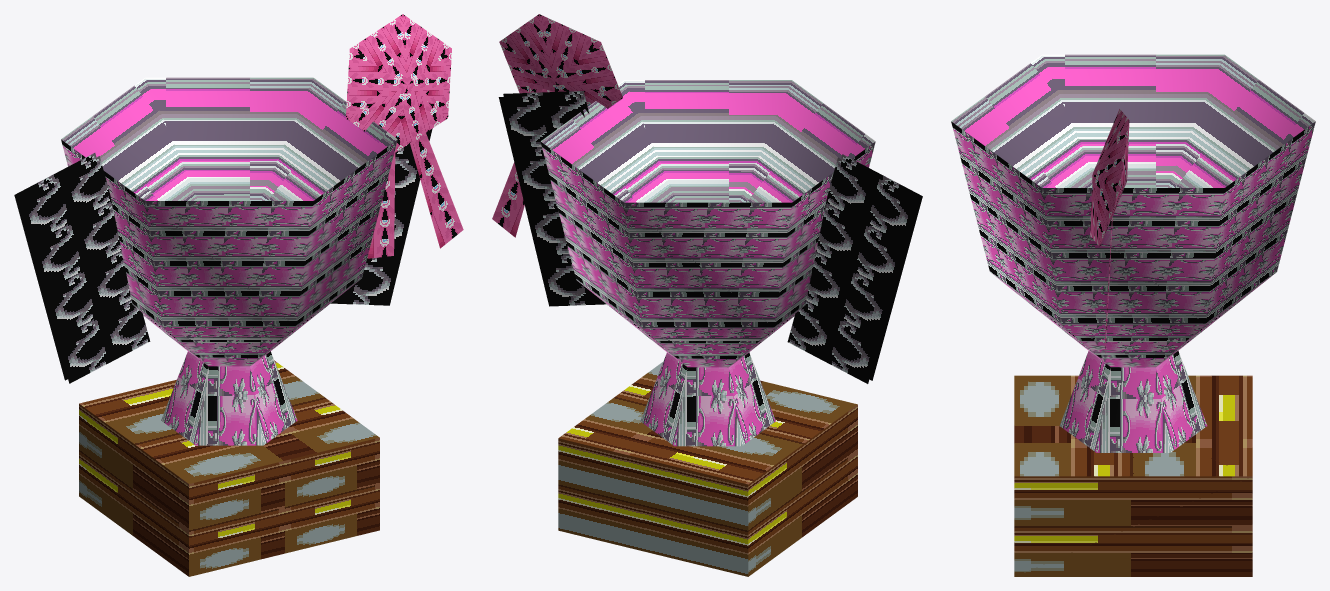
3 views of the same model, side by side, from view 1: azimuth 30°, elevation 25°; view 2: azimuth 150°, elevation 25°; view 3: azimuth 270°, elevation 25° (orthographic). The views are drawn at different scales.
Visible parts, largest first — view 1: 5370kg3_tr00; view 2: 5370kg3_tr00; view 3: 5370kg3_tr00.
Part boxes in pixels (bbox=[...]): 5370kg3_tr00: bbox=[14, 14, 463, 576]; 5370kg3_tr00: bbox=[492, 14, 922, 576]; 5370kg3_tr00: bbox=[951, 54, 1315, 576].
Size of the model in its own units: 0.7656 by 0.7649 by 0.5088.
4 materials, 4 textured.
